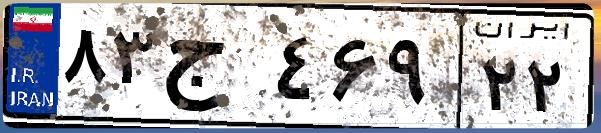2: (475, 38, 525, 113), (525, 38, 570, 115)
3: (110, 28, 158, 98)
4: (270, 28, 330, 110)
6: (330, 28, 385, 110)
8: (57, 26, 110, 100)
9: (385, 28, 445, 110)
ج: (158, 20, 270, 120)
